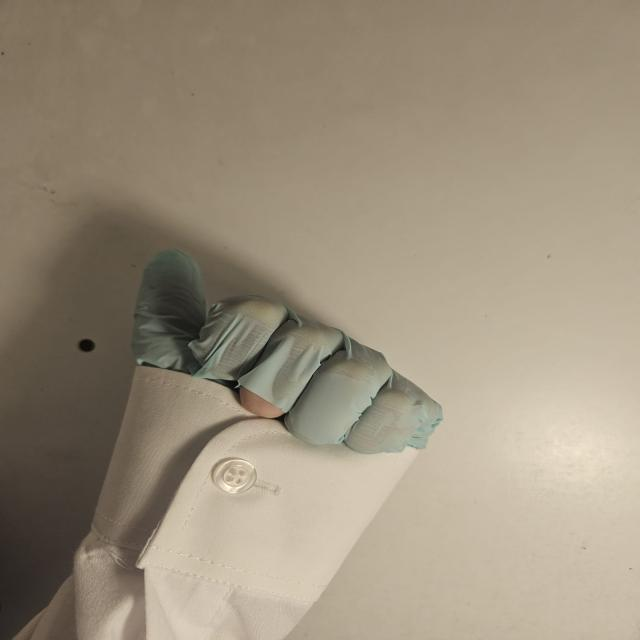gloves_damaged: (121, 247, 446, 458)
